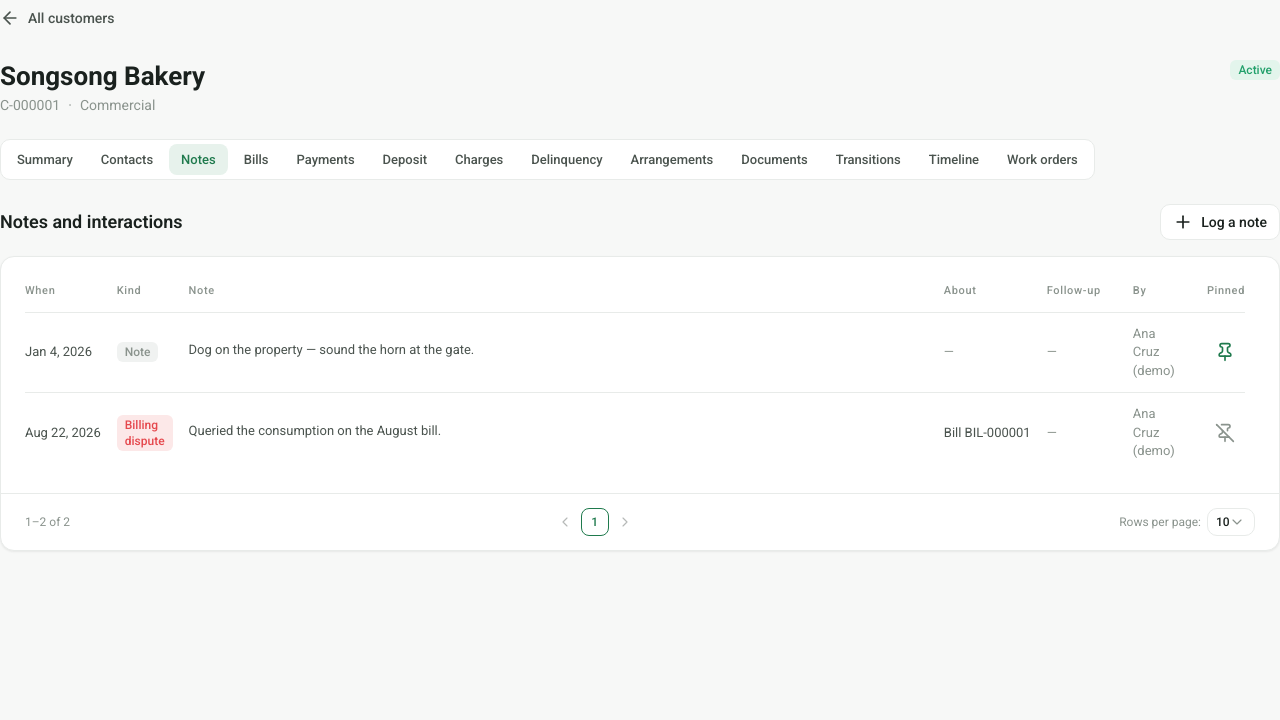
Test: the notes tab › refuses an empty note before it reaches the host
Click the button "Log a note". click: (1220,222)
box: [1160,204,1279,240]
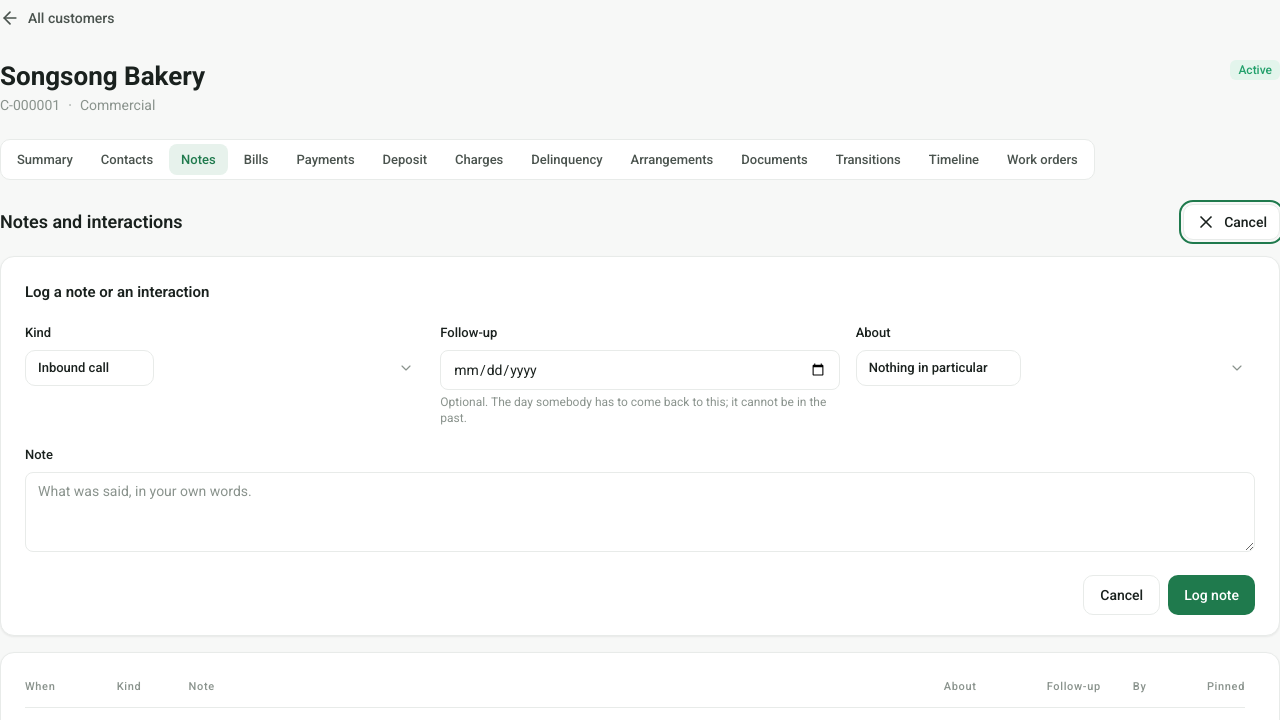
Click the button "Log note". click: (1212,594)
box: [1168,574,1255,614]
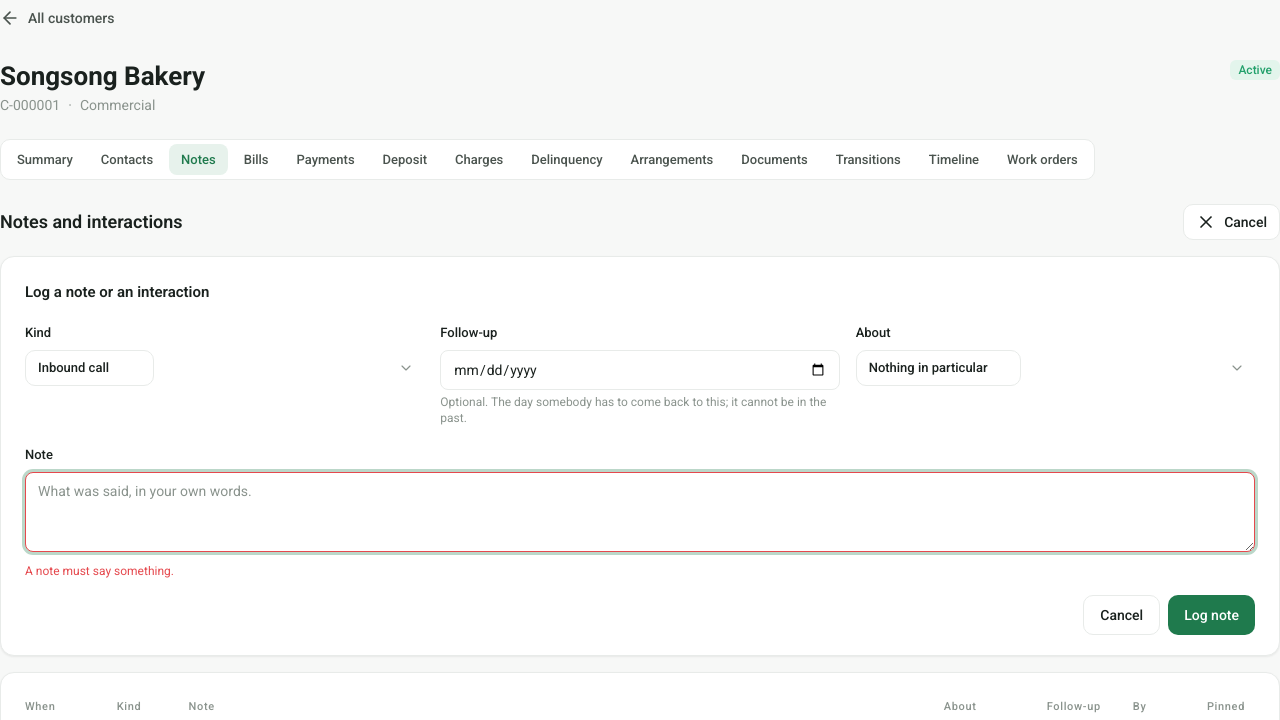
Now the text "A note must say something." is shown, box [25,564,174,578]
